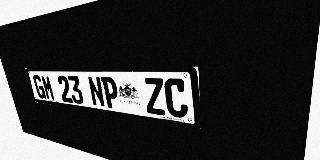2: (57, 76, 73, 103)
3: (67, 76, 84, 104)
C: (164, 78, 188, 119)
G: (32, 75, 47, 99)
M: (40, 75, 55, 101)
N: (87, 76, 106, 107)
P: (101, 77, 120, 109)
Z: (143, 78, 166, 116)
